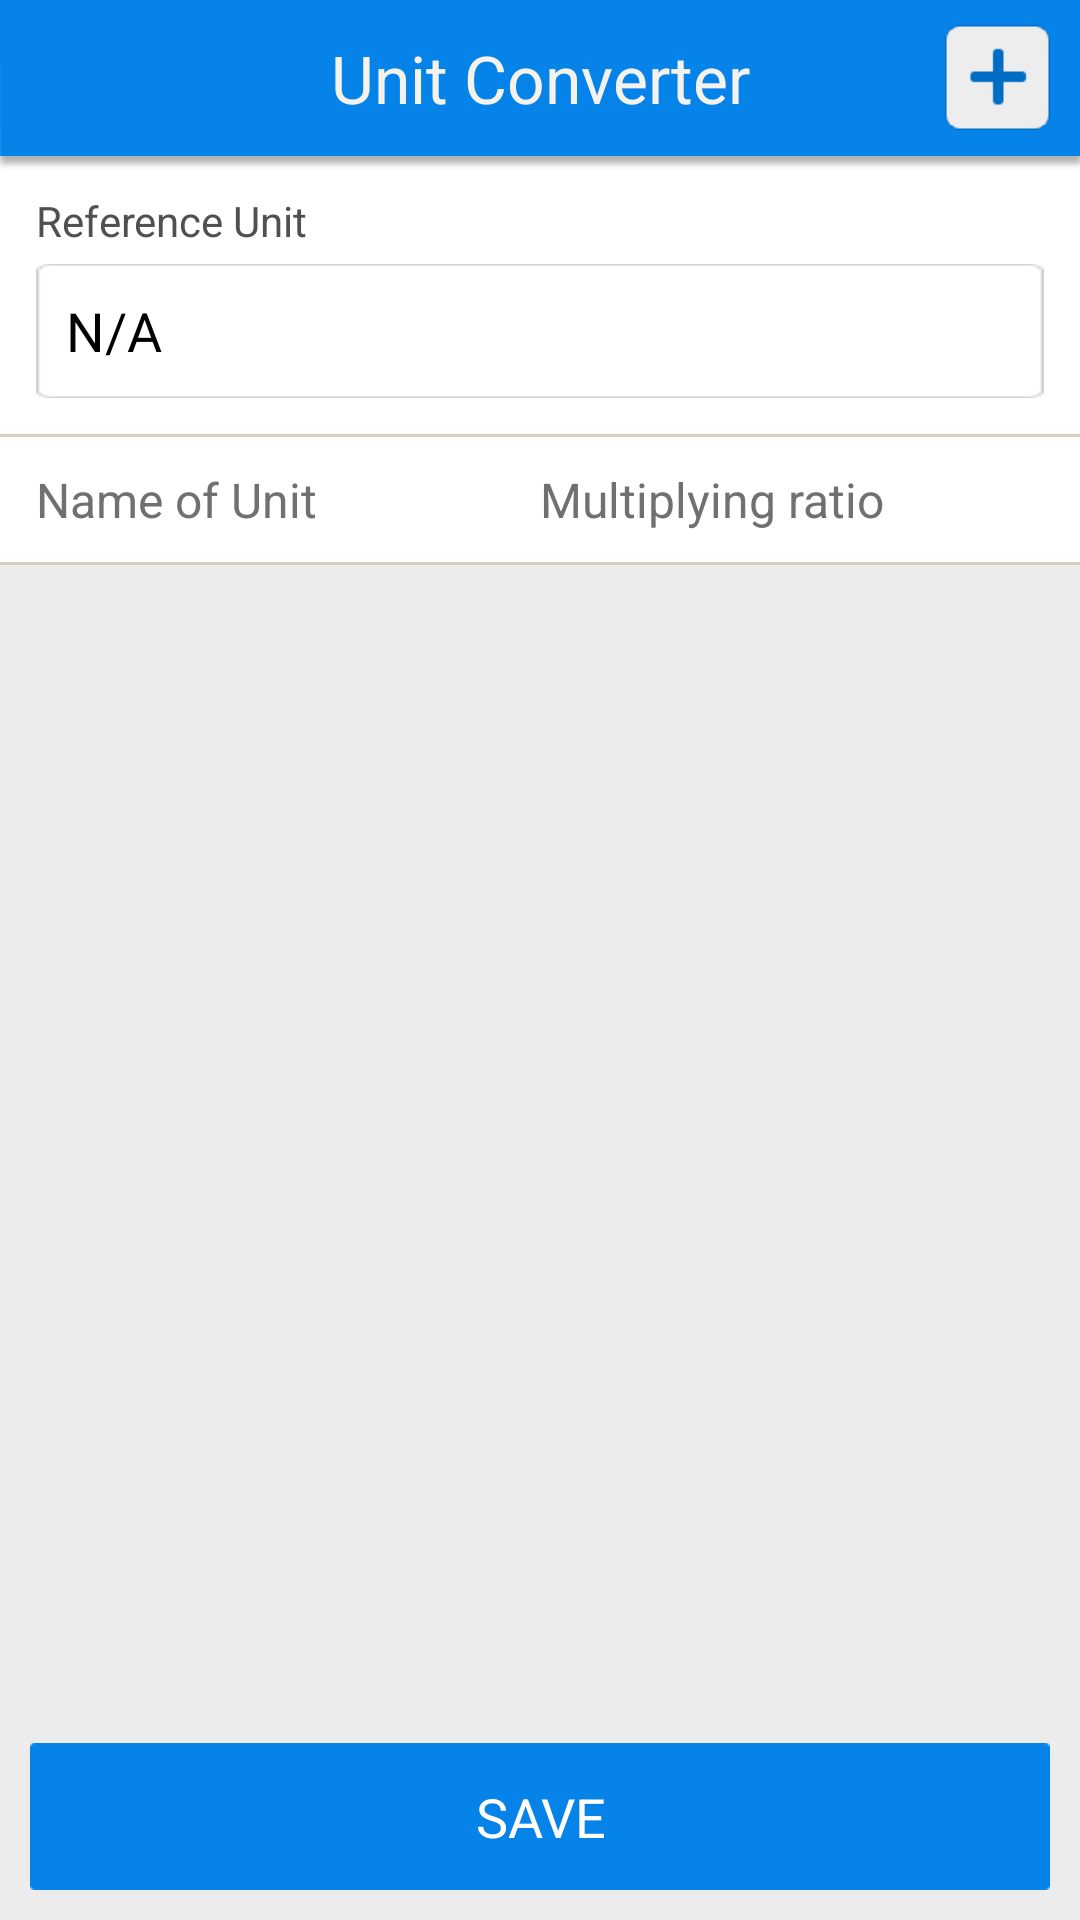

Locate icon controls on the screen. Image size 1080w x 1920h, boxes as (x1, y1, x2, y2).
add sel: (945, 25, 1050, 130)
